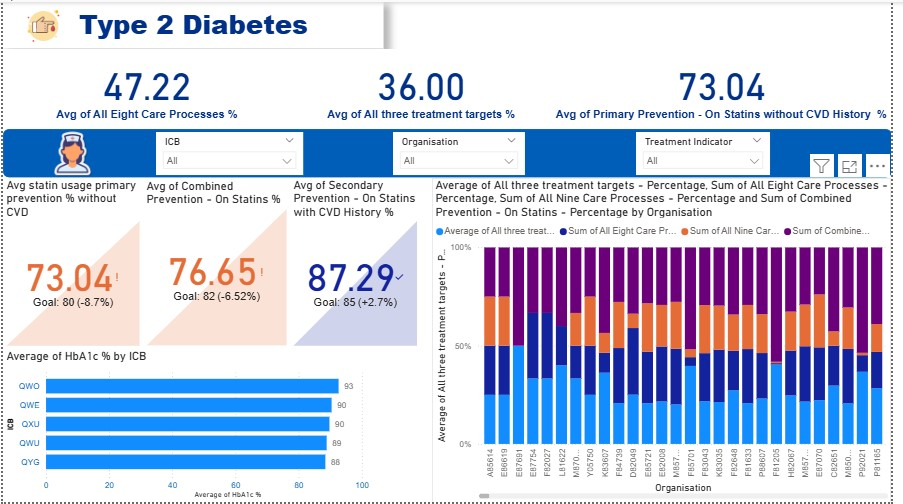

What the dashboard file says about the page in this screenshot:
{"tool":"powerbi","page":{"name":" Type 2 Diabetes","canvas":[1280,720],"ordinal":1},"visuals":[{"type":"shape","box":[0,183.3,1280,70],"z":0,"group":"g1"},{"type":"group","id":"g1","title":"Group 1","box":[0,180,1280,76],"z":1000},{"type":"textbox","box":[0,0,548.3,67.1],"z":3000,"group":"g2"},{"type":"group","id":"g2","title":"Group 2","box":[0,0,548.3,67.7],"z":6000},{"type":"card","fields":{"Values":["Avg(Type 2 and other CP_TT.All Eight Care Processes - Percentage)"]},"box":[0,67.7,414.6,112.3],"z":6001},{"type":"card","fields":{"Values":["Avg(Type 2 and other CP_TT.All three treatment targets - Percentage)"]},"box":[414.6,67.7,374.9,112.3],"z":6002},{"type":"card","fields":{"Values":["Avg(Type 2 and other CP_TT.Primary Prevention - On Statins without CVD History  - Percentage)"]},"box":[789.5,67.7,490.5,112.3],"z":6003},{"type":"barChart","fields":{"Y":["Avg(Type 2 and other CP_TT.HbA1c - Percentage)"],"Category":["Type 2 and other CP_TT.ICB"]},"box":[0,500,601.8,220.7],"z":6004},{"type":"kpi","title":"Avg statin usage primary prevention % without CVD","fields":{"Goal":["Type 2 and other CP_TT.Statin Target"],"TrendLine":["Type 2 and other CP_TT.Audit year"],"Indicator":["Avg(Type 2 and other CP_TT.Primary Prevention - On Statins without CVD History  - Percentage)"]},"box":[0,253.5,201.7,246.6],"z":6005},{"type":"hundredPercentStackedColumnChart","fields":{"Y":["Avg(Type 2 and other CP_TT.All three treatment targets - Percentage)","Sum(Type 2 and other CP_TT.All Eight Care Processes - Percentage)","Sum(Type 2 and other CP_TT.All Nine Care Processes - Percentage)","Sum(Type 2 and other CP_TT.Combined Prevention - On Statins - Percentage)"],"Category":["Type 2 and other CP_TT.Organisation"]},"box":[617.3,253.5,662.1,467.3],"z":6006},{"type":"kpi","title":"Avg of Secondary Prevention - On Statins with CVD History %","fields":{"TrendLine":["Type 2 and other CP_TT.Audit year"],"Indicator":["Avg(Type 2 and other CP_TT.Secondary Prevention - On Statins with CVD History - Percentage)"],"Goal":["Type 2 and other CP_TT.Secondary prevention"]},"box":[413.8,253.5,187.9,246.6],"z":6007},{"type":"kpi","title":"Avg of Combined Prevention - On Statins %","fields":{"Indicator":["Avg(Type 2 and other CP_TT.Combined Prevention - On Statins - Percentage)"],"TrendLine":["Type 2 and other CP_TT.Audit year"],"Goal":["Type 2 and other CP_TT.Combined prevention"]},"box":[201.7,255.2,212.1,244.9],"z":6008},{"type":"slicer","fields":{"Values":["Type 1 CP_TT.ICB"]},"box":[220,186.7,211.7,61.7],"z":8000,"group":"g1"},{"type":"slicer","fields":{"Values":["Type 1 CP_TT.Organisation"]},"box":[561.7,186.7,190,61.7],"z":9000,"group":"g1"},{"type":"image","box":[17.8,0,82.7,67.7],"z":10000,"group":"g2"},{"type":"slicer","fields":{"Values":["Treatment Indicator.Treatment Indicator"]},"box":[911.7,186.7,193.3,61.7],"z":10000,"group":"g1"},{"type":"image","box":[45,180,111.7,76.7],"z":11000,"group":"g1"}]}

Visuals, with their boxes in screenshot pixels (x1, y1, x2, y2), scaled from the page's 1280x720 canvas onto the 903x504 screenshot:
shape: left=0, top=128, right=902, bottom=177
"Group 1" group: left=0, top=126, right=902, bottom=179
textbox: left=0, top=0, right=387, bottom=47
"Group 2" group: left=0, top=0, right=387, bottom=47
card - Avg(Type 2 and other CP_TT.All Eight Care Processes - Percentage): left=0, top=47, right=292, bottom=126
card - Avg(Type 2 and other CP_TT.All three treatment targets - Percentage): left=292, top=47, right=557, bottom=126
card - Avg(Type 2 and other CP_TT.Primary Prevention - On Statins without CVD History  - Percentage): left=557, top=47, right=902, bottom=126
barChart - Avg(Type 2 and other CP_TT.HbA1c - Percentage) x Type 2 and other CP_TT.ICB: left=0, top=350, right=425, bottom=503
"Avg statin usage primary prevention % without CVD" kpi: left=0, top=177, right=142, bottom=350
hundredPercentStackedColumnChart - Avg(Type 2 and other CP_TT.All three treatment targets - Percentage) x Sum(Type 2 and other CP_TT.All Eight Care Processes - Percentage): left=435, top=177, right=902, bottom=503
"Avg of Secondary Prevention - On Statins with CVD History %" kpi: left=292, top=177, right=424, bottom=350
"Avg of Combined Prevention - On Statins %" kpi: left=142, top=179, right=292, bottom=350
slicer - Type 1 CP_TT.ICB: left=155, top=131, right=305, bottom=174
slicer - Type 1 CP_TT.Organisation: left=396, top=131, right=530, bottom=174
image: left=13, top=0, right=71, bottom=47
slicer - Treatment Indicator.Treatment Indicator: left=643, top=131, right=780, bottom=174
image: left=32, top=126, right=111, bottom=180
